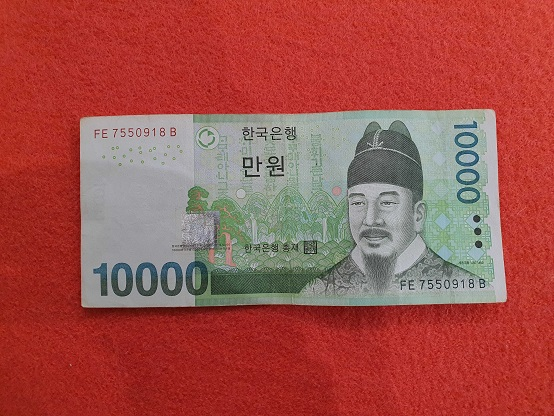10000won: (78, 108, 510, 306)
